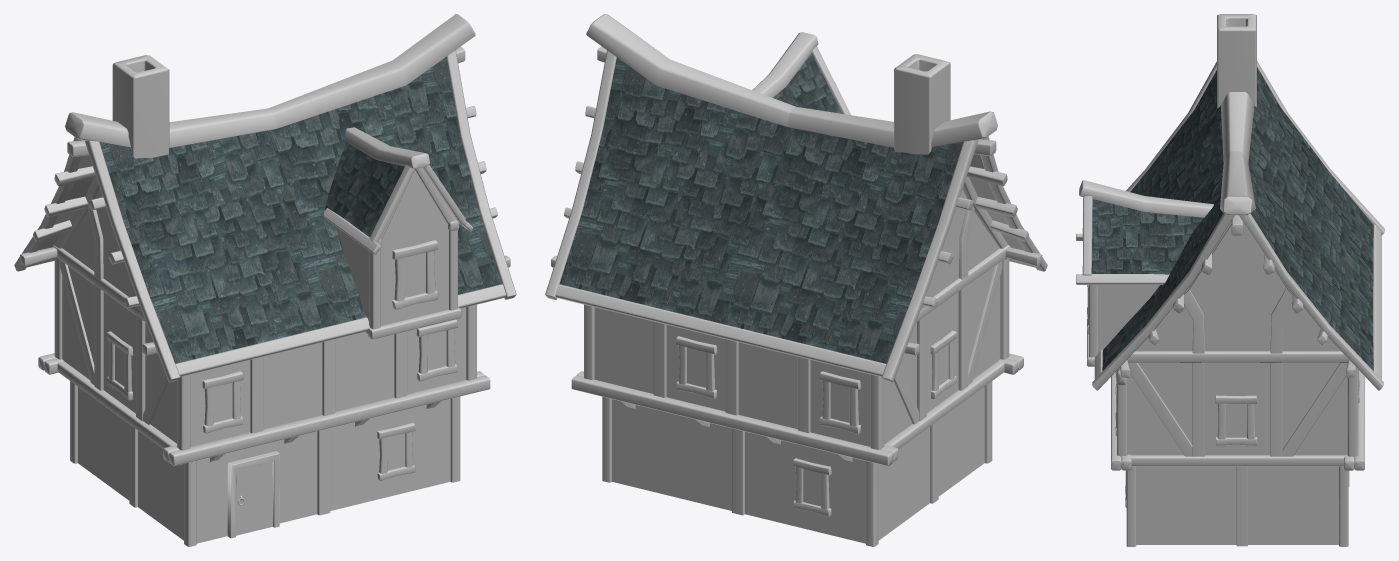
Rendered from house24.fbx.
The picture shows the model from 3 angles, left to right: view 1: azimuth 30°, elevation 25°; view 2: azimuth 150°, elevation 25°; view 3: azimuth 270°, elevation 25°; orthographic projection. The views are drawn at different scales.
Parts seen in each view (by area): view 1: house24; view 2: house24; view 3: house24.
Boxes of the visible parts, x1,y1,x2,y2 form: house24: (14,14,516,546); house24: (545,14,1047,546); house24: (1076,14,1384,546).
Size of the model in its own units: 1318 by 1369 by 942.
